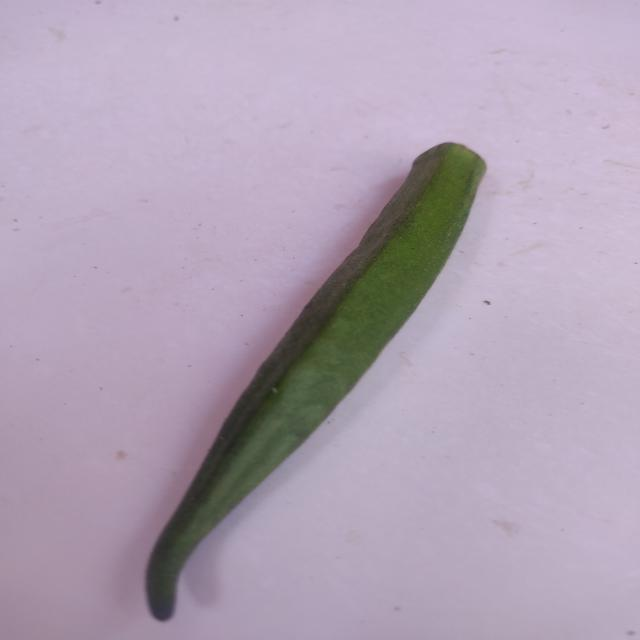Ladies Finger: (68, 116, 548, 640)
